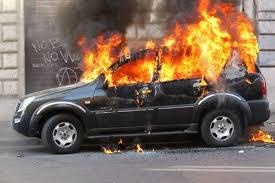fire: (78, 0, 256, 95), (99, 137, 137, 154), (246, 124, 275, 146)
